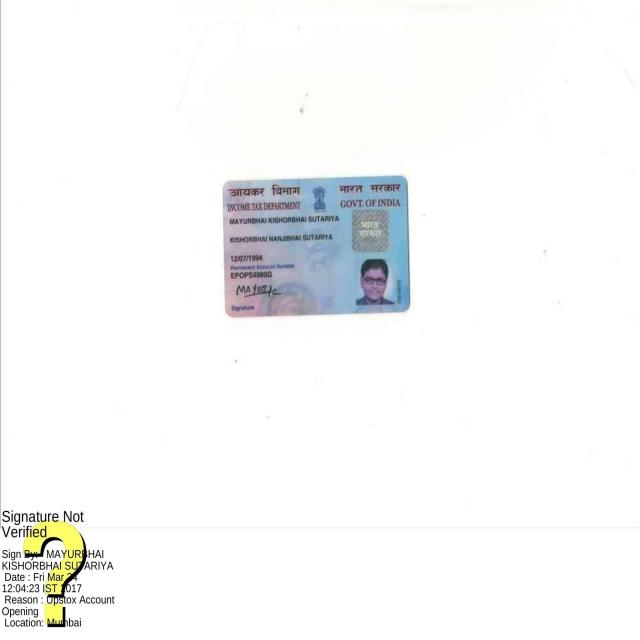pan_card: (224, 175, 410, 318)
